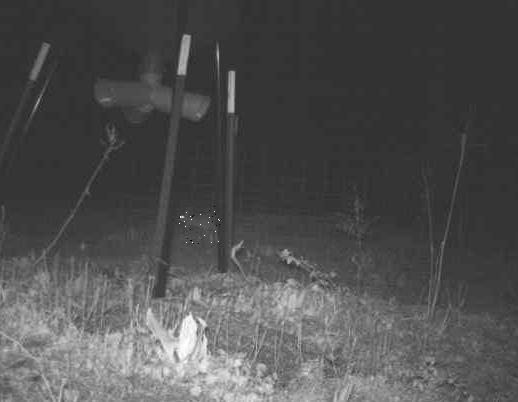Rabbit: (179, 207, 220, 245)
